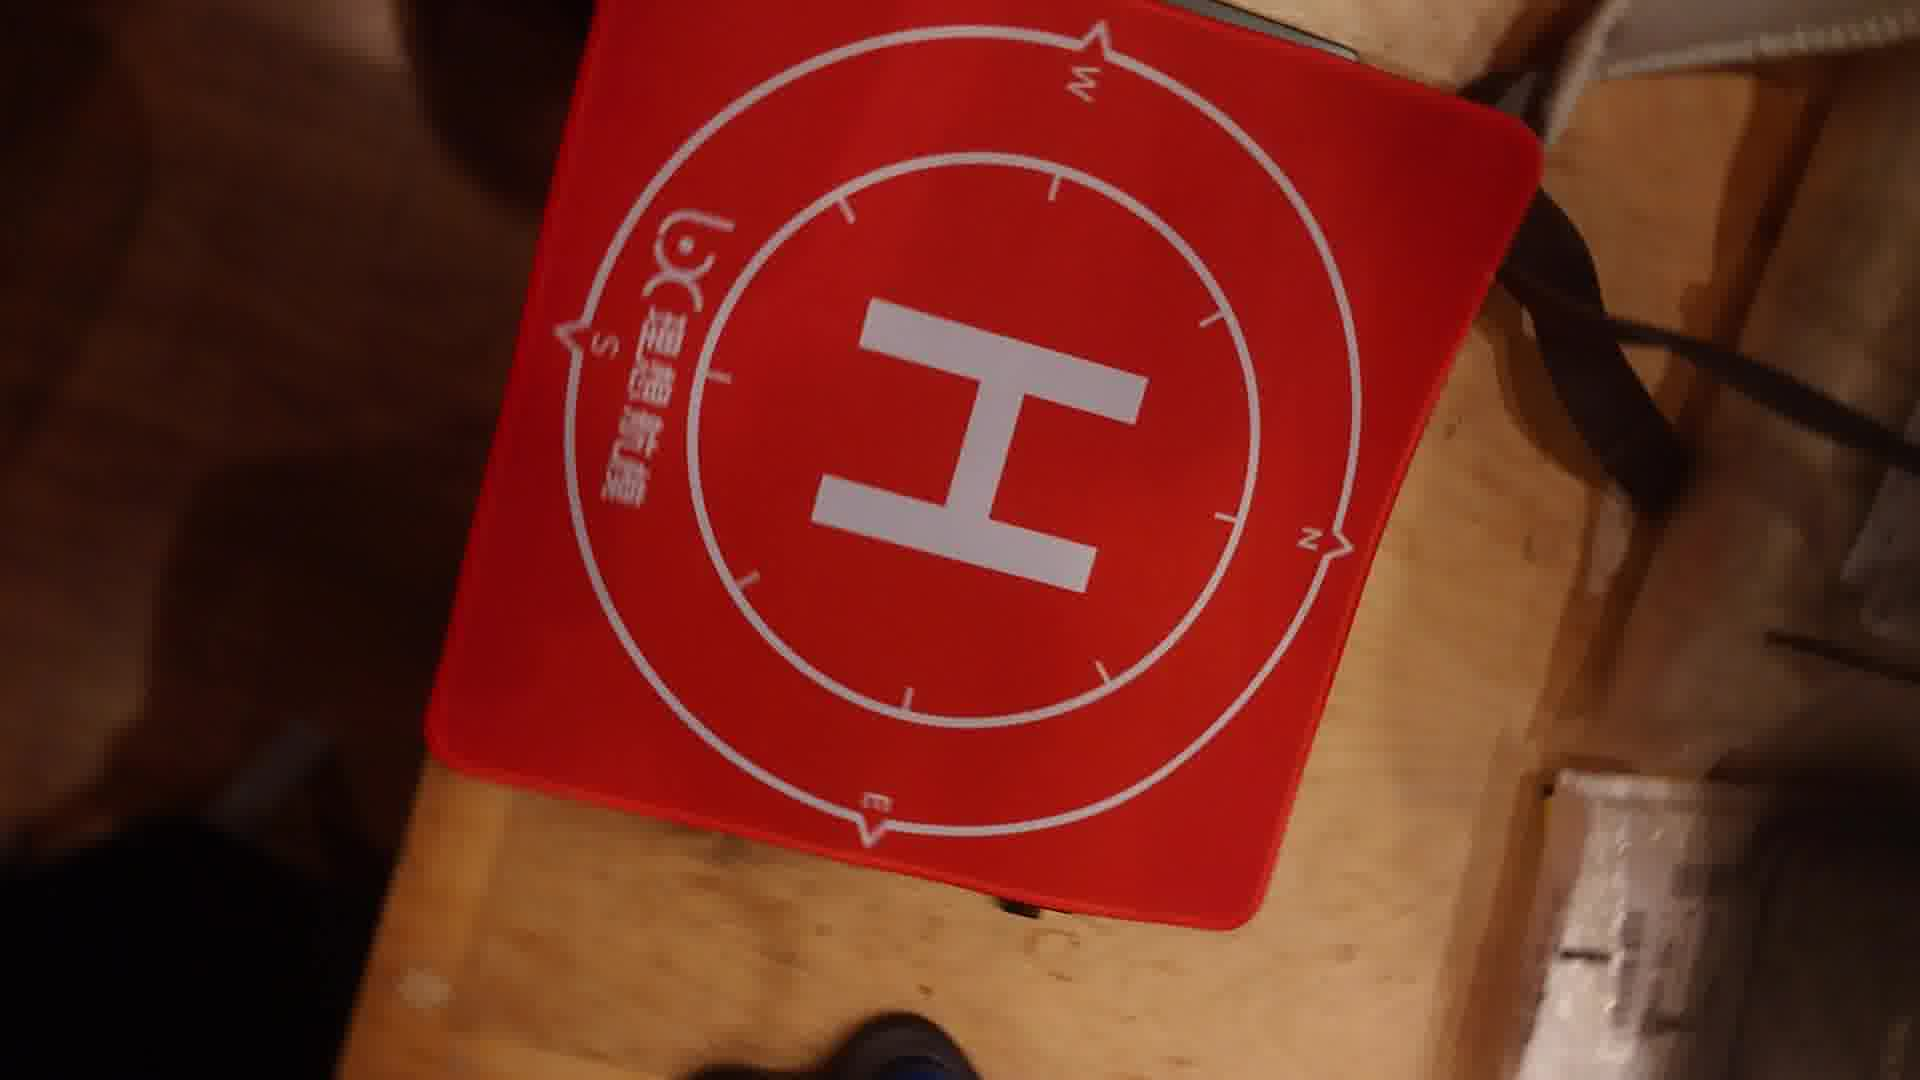H: (808, 293, 1153, 596)
